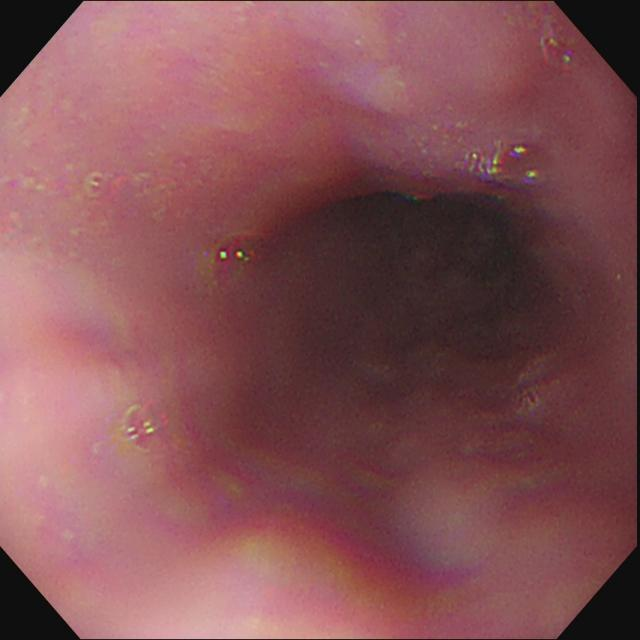T: (464, 142, 553, 193)
U: (219, 249, 267, 263)
